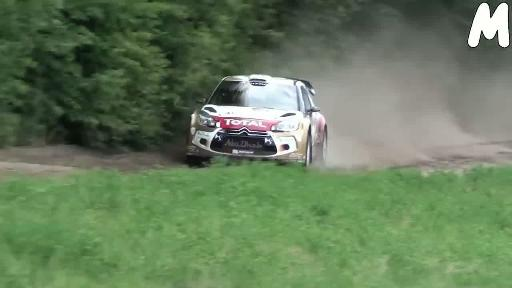CAR: (186, 57, 332, 174)
